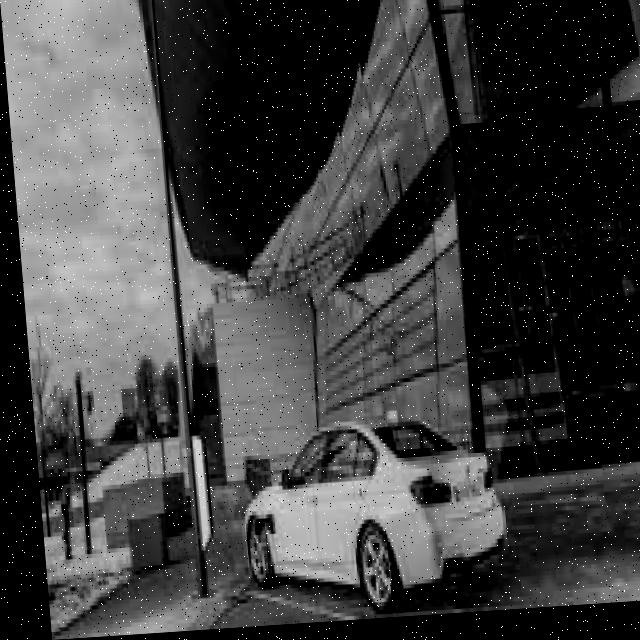car: (213, 418, 499, 607)
